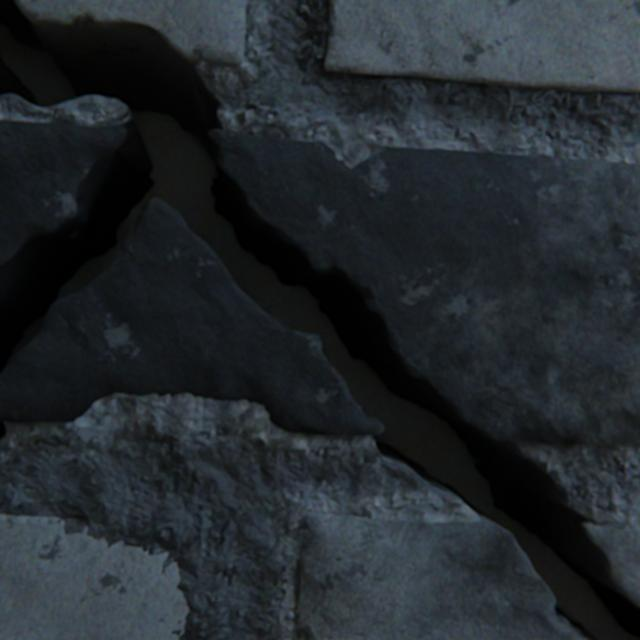brick: (324, 0, 639, 94), (0, 514, 188, 639)
broken_brick: (209, 130, 639, 442), (0, 198, 382, 434), (298, 512, 590, 639), (0, 121, 125, 269), (17, 0, 246, 67), (578, 522, 639, 606)
crack: (0, 0, 639, 639), (0, 419, 7, 440), (0, 462, 3, 477)
